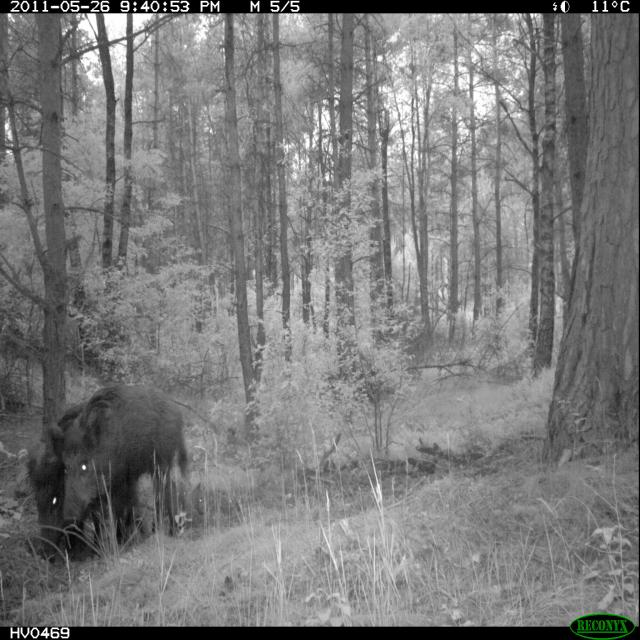boar: (19, 352, 212, 573), (9, 403, 150, 556)
